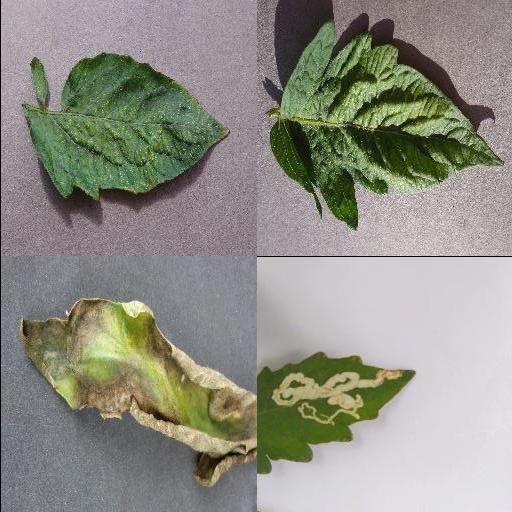Late Blight: (15, 298, 256, 488)
Leaf Miner: (256, 350, 415, 474)
Spider Mites: (268, 20, 506, 230), (25, 53, 229, 201)
